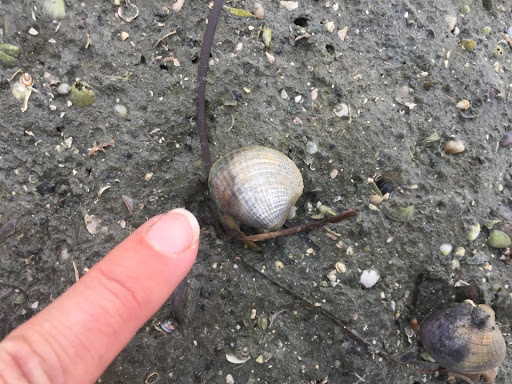cockle: (207, 145, 308, 233), (419, 298, 507, 369)
